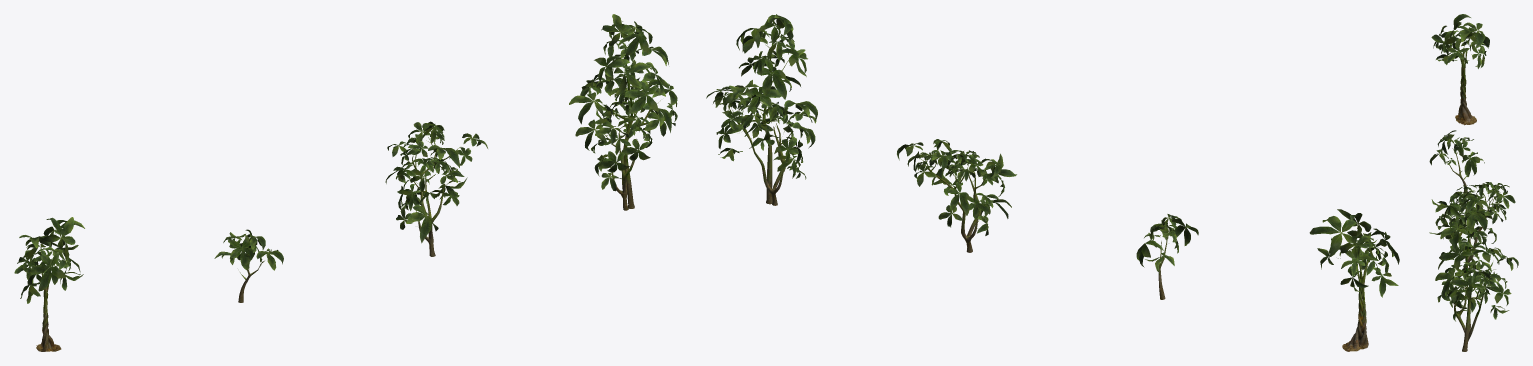
File: pachira.glb
3 views of the same model, side by side, from view 1: azimuth 30°, elevation 25°; view 2: azimuth 150°, elevation 25°; view 3: azimuth 270°, elevation 25° (orthographic). The views are drawn at different scales.
Parts seen in each view (by area): view 1: pachira_aquatica_01_leaves_a, pachira_aquatica_01_bark_a; view 2: pachira_aquatica_01_leaves_a, pachira_aquatica_01_bark_a; view 3: pachira_aquatica_01_leaves_a, pachira_aquatica_01_bark_a.
Boxes of the visible parts, x1,y1,x2,y2 form: pachira_aquatica_01_leaves_a: (14,14,677,303); pachira_aquatica_01_bark_a: (36,44,652,351); pachira_aquatica_01_leaves_a: (706,14,1399,297); pachira_aquatica_01_bark_a: (728,43,1368,351); pachira_aquatica_01_leaves_a: (1429,14,1518,321); pachira_aquatica_01_bark_a: (1447,48,1497,351).
Size of the model in its own units: 6.87 by 1.9 by 0.997.
2 materials, 2 textured.
